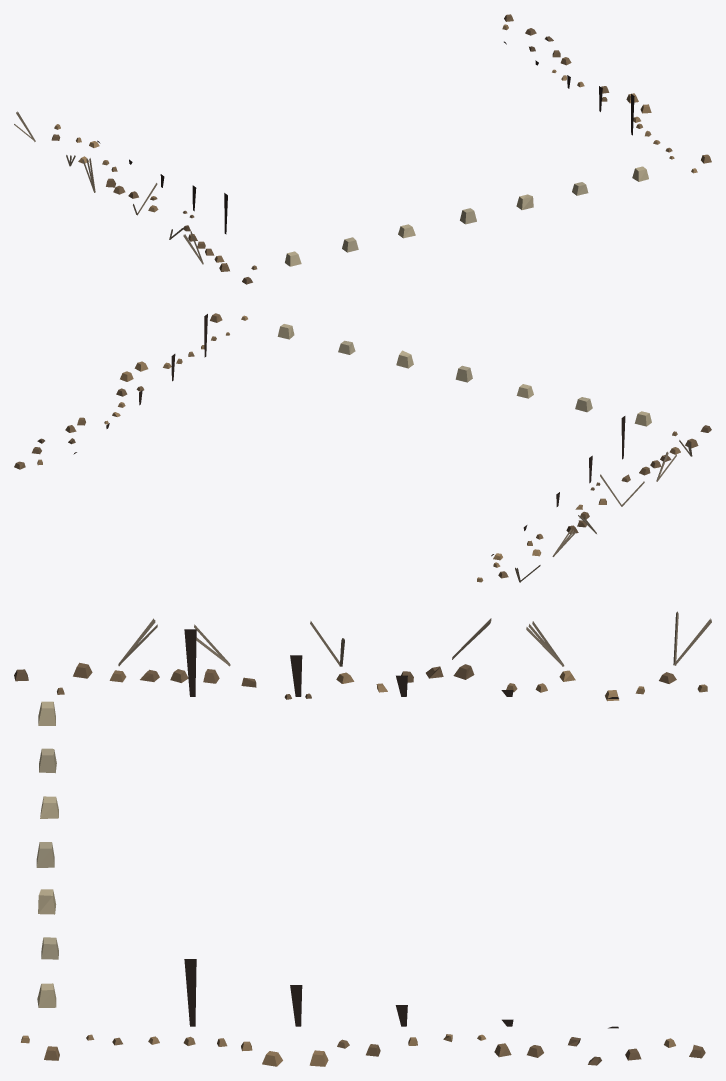
Rendered from mesa_lip_kicker_detail2.glb.
3 renders of one model, top to bottom at view 1: azimuth 30°, elevation 25°; view 2: azimuth 150°, elevation 25°; view 3: azimuth 270°, elevation 25°, orthographic. The views are drawn at different scales.
Visible parts, largest first — view 1: mesa_lip_kicker_detail2; view 2: mesa_lip_kicker_detail2; view 3: mesa_lip_kicker_detail2.
Boxes of the visible parts, box(x1,y1,x2,y2) form: mesa_lip_kicker_detail2: box(14, 14, 711, 284); mesa_lip_kicker_detail2: box(14, 313, 711, 582); mesa_lip_kicker_detail2: box(14, 611, 711, 1066).
Size of the model in its own units: 17.78 by 1.44 by 12.55.
